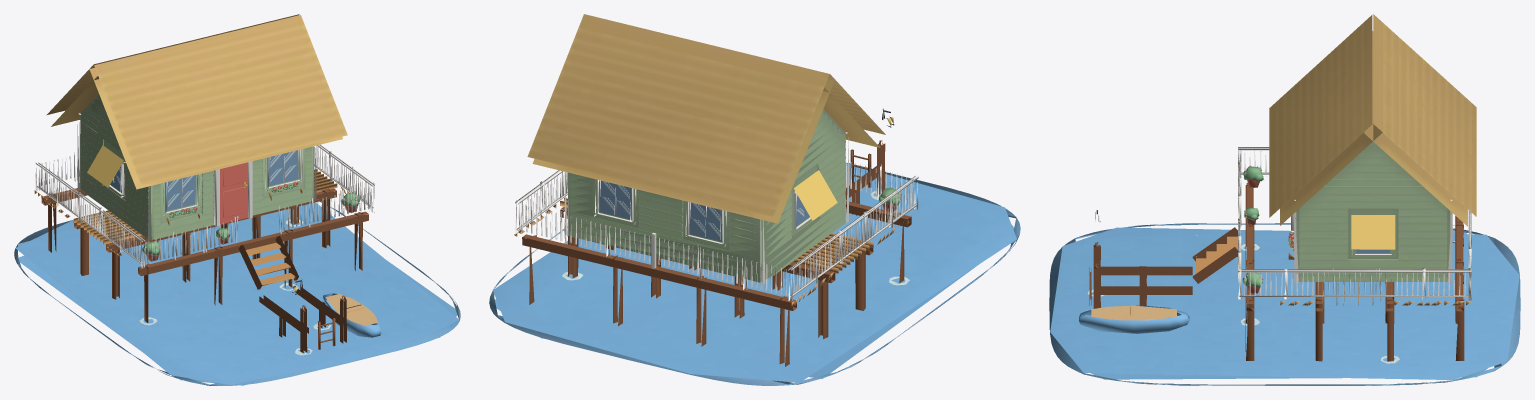
File: rumah_r4.glb
The picture shows the model from 3 angles, left to right: view 1: azimuth 30°, elevation 25°; view 2: azimuth 150°, elevation 25°; view 3: azimuth 270°, elevation 25°; orthographic projection. The views are drawn at different scales.
Parts seen in each view (by area): view 1: stilt-house_body, stilt-house_details, stilt-house_door_l, stilt-house_frame, stilt-house_plants, stilt-house_glints; view 2: stilt-house_body, stilt-house_details, stilt-house_glints; view 3: stilt-house_body, stilt-house_details, stilt-house_plants.
Boxes of the visible parts, bbox=[...] form: stilt-house_body: bbox=[14, 14, 460, 385]; stilt-house_details: bbox=[34, 113, 381, 355]; stilt-house_door_l: bbox=[220, 162, 247, 224]; stilt-house_frame: bbox=[214, 161, 252, 226]; stilt-house_plants: bbox=[142, 192, 359, 255]; stilt-house_glints: bbox=[112, 150, 296, 206]; stilt-house_body: bbox=[489, 14, 1020, 385]; stilt-house_details: bbox=[514, 108, 919, 366]; stilt-house_glints: bbox=[602, 181, 804, 236]; stilt-house_body: bbox=[1049, 14, 1520, 385]; stilt-house_details: bbox=[1079, 147, 1471, 363]; stilt-house_plants: bbox=[1242, 165, 1263, 287].
Size of the model in its own units: 10.39 by 7.09 by 12.8.
Materials: 21 (1 with a texture image).
